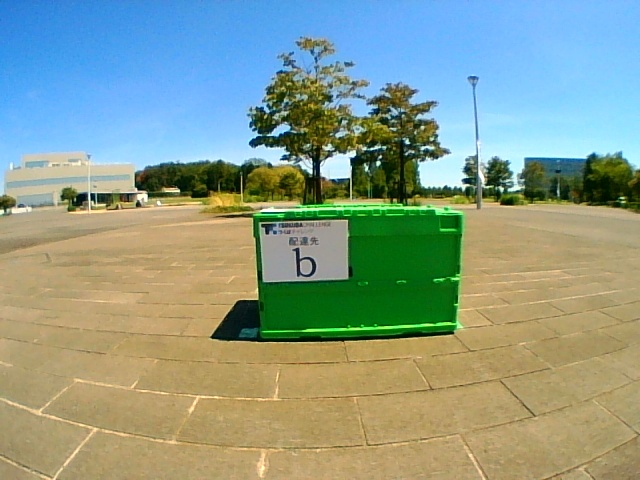green_box: (254, 204, 464, 337)
tag_b: (263, 223, 347, 279)
